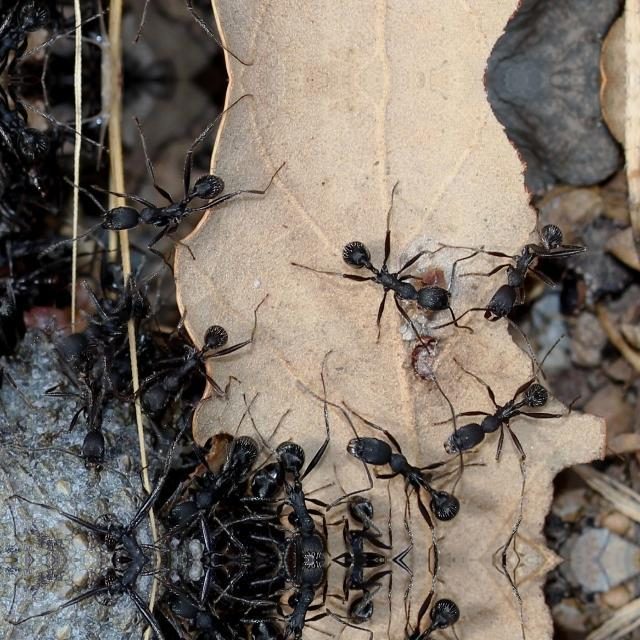Apheanogaster: (336, 419, 482, 533), (84, 156, 242, 248), (68, 246, 178, 376), (322, 227, 462, 329), (467, 210, 583, 330), (150, 427, 270, 543), (125, 316, 249, 422), (428, 367, 564, 463), (56, 344, 150, 480), (247, 429, 339, 559), (336, 584, 482, 640), (148, 574, 270, 640), (247, 558, 339, 640), (0, 81, 64, 167), (0, 0, 64, 76), (332, 486, 400, 556), (332, 562, 400, 632), (81, 509, 167, 558), (81, 560, 167, 608), (216, 516, 292, 558), (216, 560, 292, 602)
